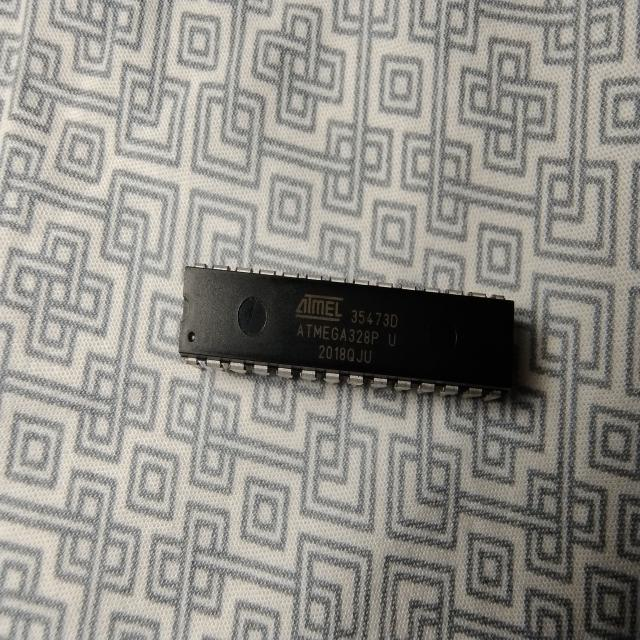atmega: (176, 261, 518, 403)
